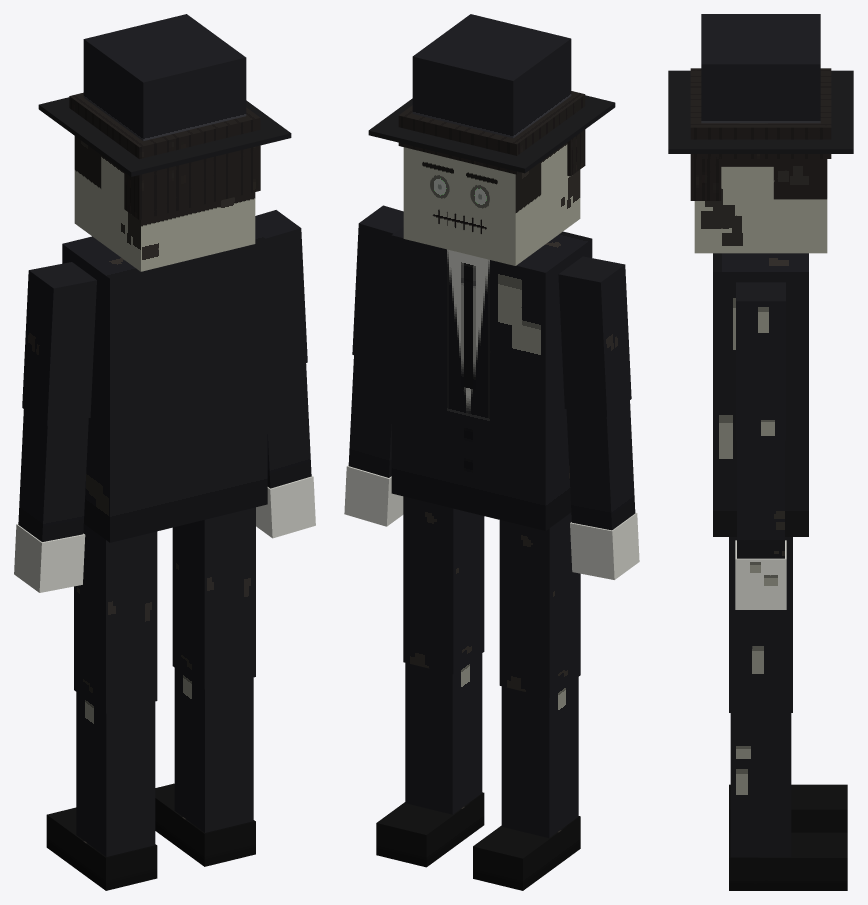
File: revenant_undertaker.glb
3 views of the same model, side by side, from view 1: azimuth 30°, elevation 25°; view 2: azimuth 150°, elevation 25°; view 3: azimuth 270°, elevation 25° (orthographic). The views are drawn at different scales.
Parts seen in each view (by area): view 1: block_torso, block_hat-crown, block_thigh.L, block_thigh.R, block_shin.R, block_shin.L, block_head, block_upper_arm.L, block_forearm.L, block_upper_arm.R, block_hair-back, block_hat-brim (+6 smaller); view 2: block_torso, block_head, block_hat-crown, block_thigh.L, block_thigh.R, block_shin.R, block_shin.L, block_upper_arm.L, block_forearm.L, block_upper_arm.R, block_foot.R, block_foot.L (+6 smaller); view 3: block_torso, block_hat-crown, block_head, block_shin.R, block_upper_arm.R, block_thigh.R, block_hat-brim, block_forearm.R, block_foot.R, block_hair-cap, block_foot.L, block_hand.R (+1 smaller).
Boxes of the visible parts, x1,y1,x2,y2 form: block_torso: [62, 231, 267, 542]; block_hat-crown: [83, 14, 246, 141]; block_thigh.L: [74, 524, 157, 713]; block_thigh.R: [172, 507, 255, 689]; block_shin.R: [174, 668, 253, 832]; block_shin.L: [76, 692, 155, 856]; block_head: [74, 136, 255, 271]; block_upper_arm.L: [22, 262, 96, 425]; block_forearm.L: [18, 409, 88, 541]; block_upper_arm.R: [255, 210, 307, 374]; block_hair-back: [124, 146, 260, 220]; block_hat-brim: [38, 97, 291, 176]; block_torso: [391, 226, 592, 530]; block_head: [403, 143, 580, 265]; block_hat-crown: [412, 14, 571, 138]; block_thigh.L: [499, 512, 580, 697]; block_thigh.R: [403, 496, 484, 674]; block_shin.R: [405, 653, 482, 814]; block_shin.L: [501, 677, 578, 837]; block_upper_arm.L: [558, 256, 631, 416]; block_forearm.L: [566, 400, 635, 530]; block_upper_arm.R: [352, 205, 403, 366]; block_foot.R: [376, 792, 484, 867]; block_foot.L: [473, 816, 580, 890]; block_torso: [713, 253, 808, 536]; block_hat-crown: [701, 14, 820, 123]; block_head: [694, 159, 827, 253]; block_shin.R: [730, 713, 791, 857]; block_upper_arm.R: [736, 282, 785, 440]; block_thigh.R: [729, 537, 792, 712]; block_hat-brim: [668, 70, 853, 153]; block_forearm.R: [737, 440, 784, 558]; block_foot.R: [729, 832, 847, 890]; block_hair-cap: [690, 68, 831, 158]; block_foot.L: [729, 784, 847, 832]; block_hand.R: [735, 540, 786, 609].
Bounding box in the file's own units: 0.7008 × 1.97 × 0.406.
1 material, 1 textured.
